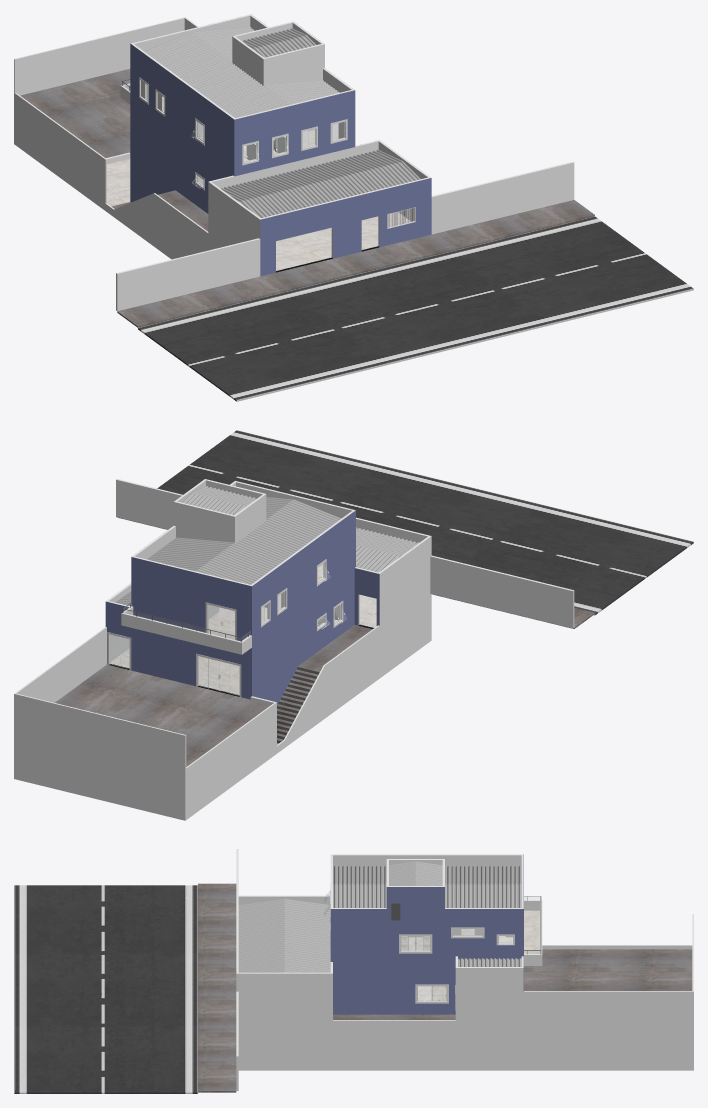
Rendered from casa_em_steeel_frame.glb.
3 renders of one model, top to bottom at view 1: azimuth 30°, elevation 25°; view 2: azimuth 150°, elevation 25°; view 3: azimuth 270°, elevation 25°, orthographic. The views are drawn at different scales.
Visible parts, largest first — view 1: 3DSMeshMatrix (×12); view 2: 3DSMeshMatrix (×11); view 3: 3DSMeshMatrix (×12).
Part boxes in pixels (x1,y1,x2,y2): 3DSMeshMatrix (×12): (14, 14, 693, 401); 3DSMeshMatrix (×11): (14, 430, 693, 820); 3DSMeshMatrix (×12): (14, 849, 693, 1093).
Bounding box in the file's own units: 2.04 × 0.7906 × 2.83.
11 materials, 4 textured.
